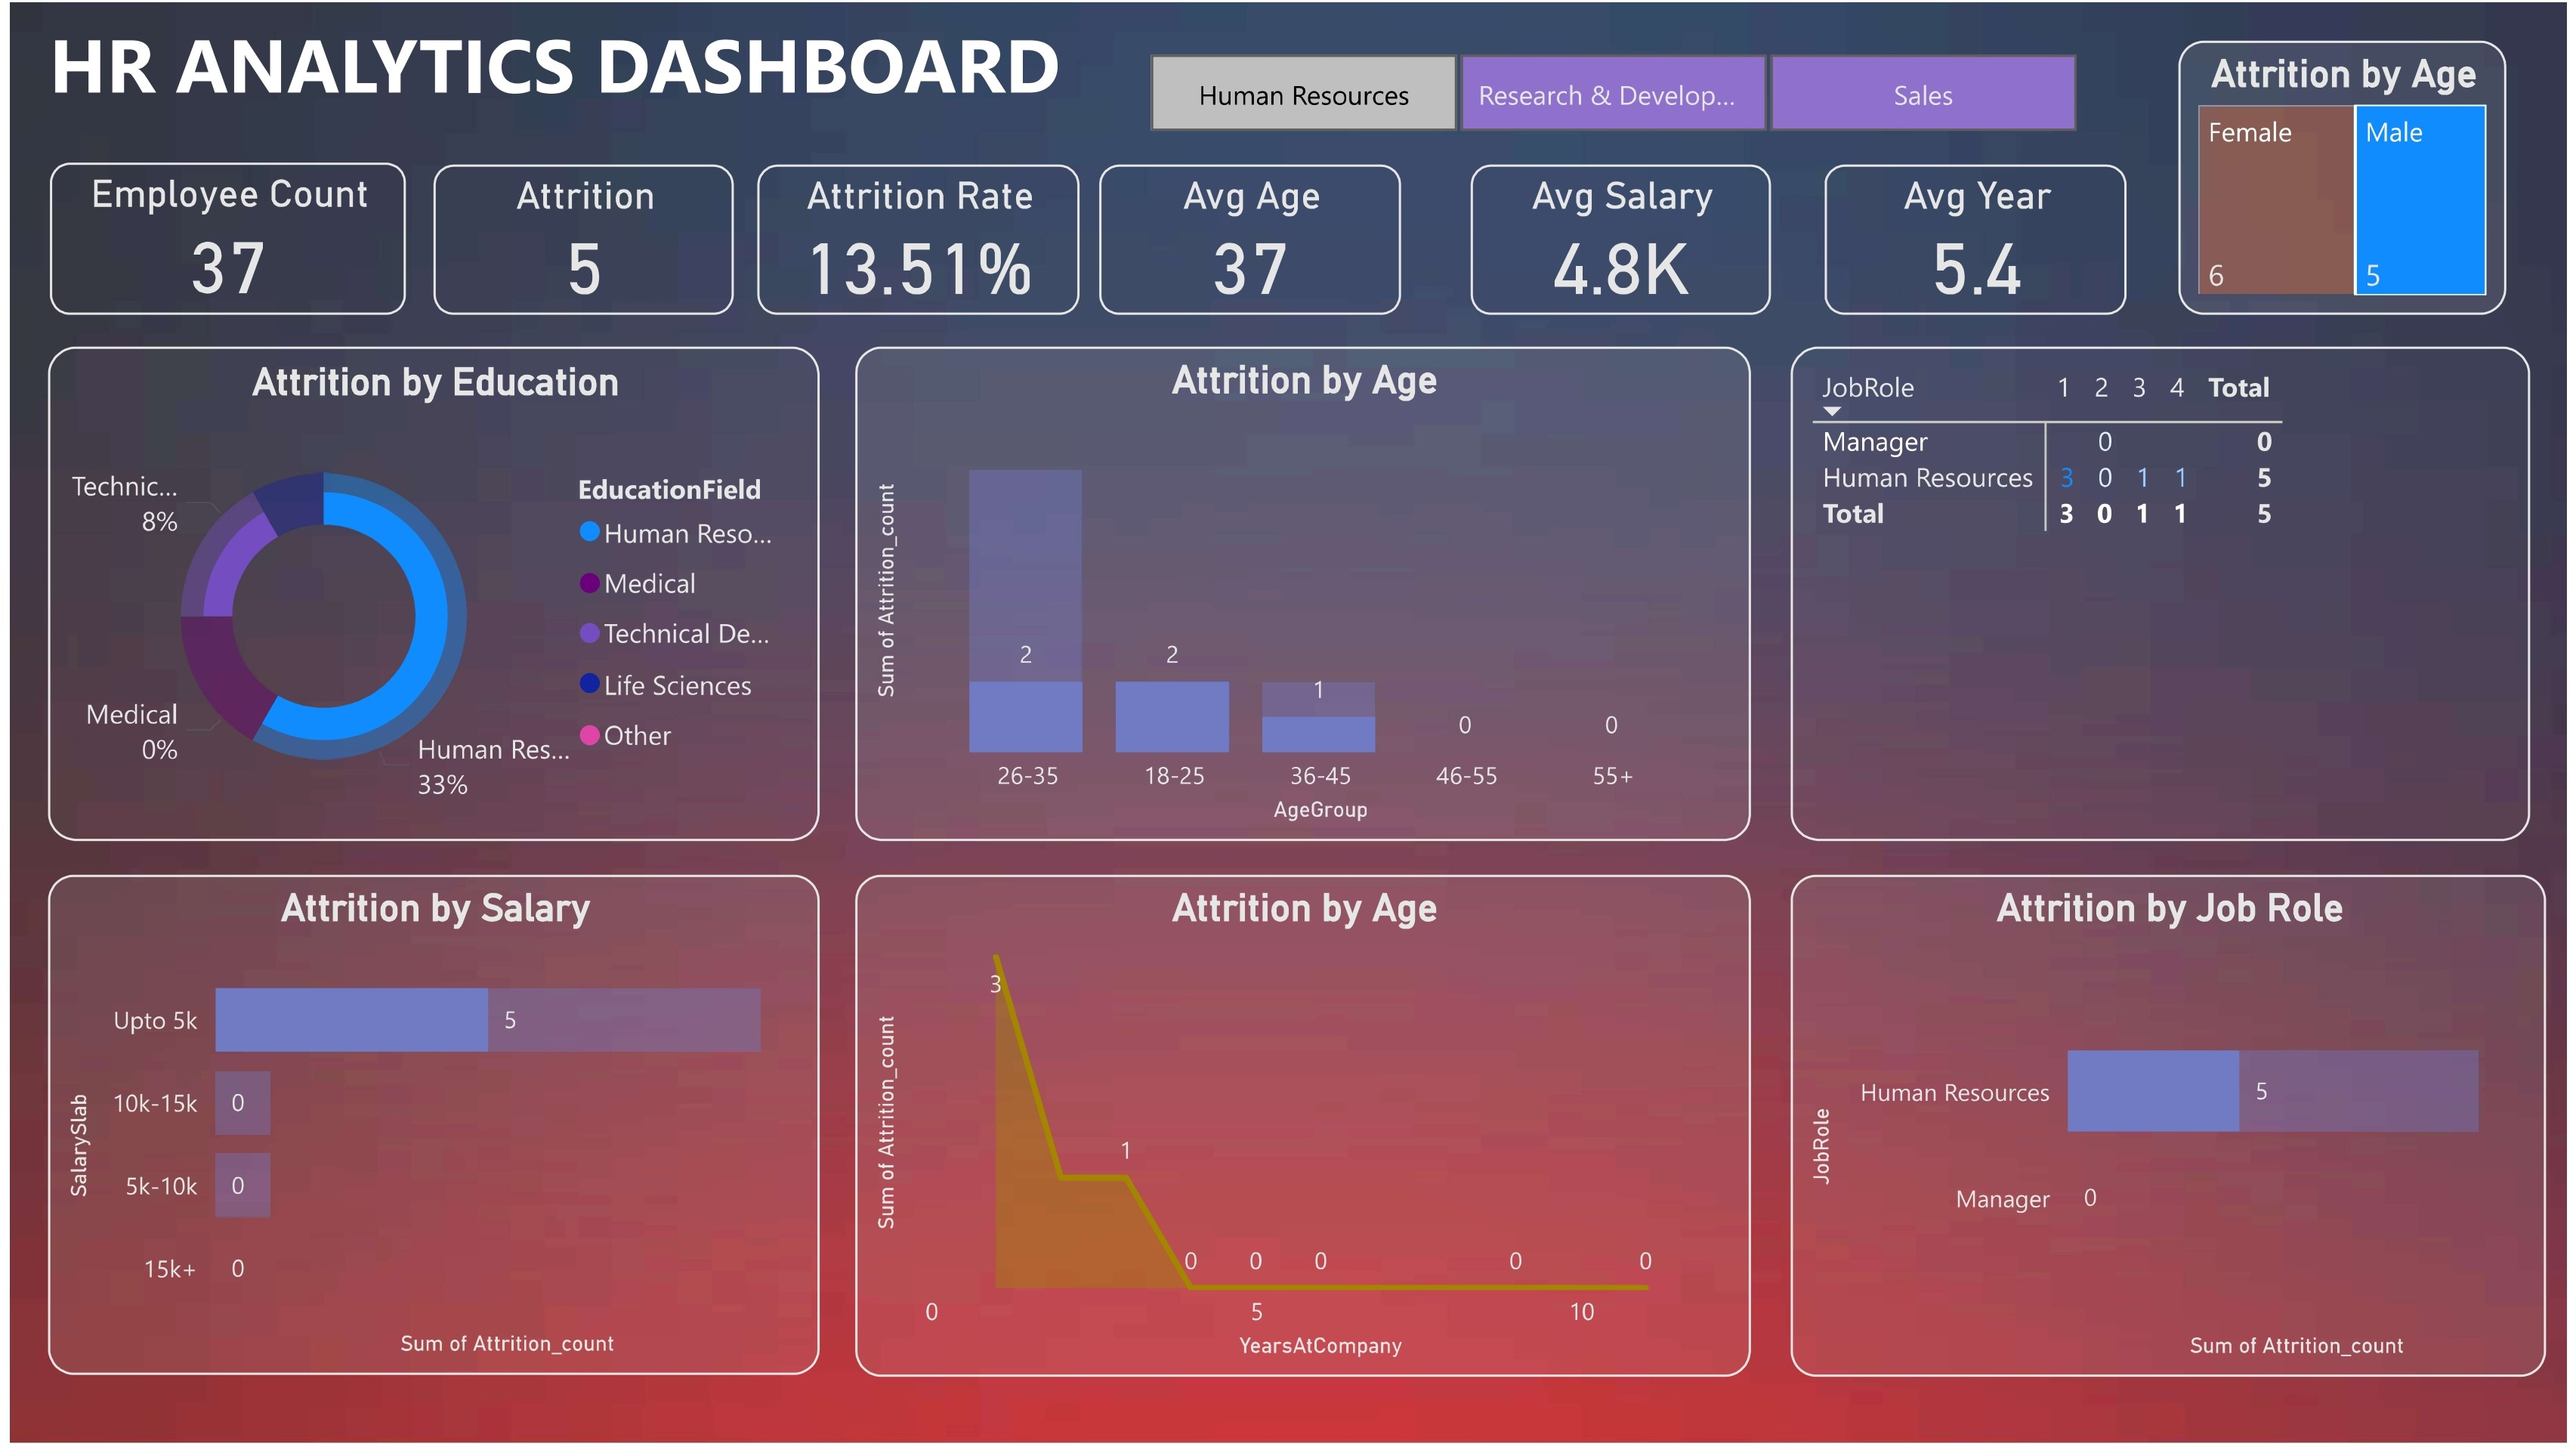

This screenshot's page, from the dashboard's own definition file:
{"tool":"powerbi","page":{"name":"Page 1","canvas":[1280,720],"ordinal":0},"visuals":[{"type":"card","title":"Avg Age","fields":{"Values":["Avg(HR_Analytics.Age)"]},"box":[544.8,81,150.9,75.5],"z":0},{"type":"card","title":"Attrition Rate","fields":{"Values":["HR_Analytics.AttritionRate"]},"box":[374,81.1,161,75.1],"z":1000},{"type":"card","title":"Attrition","fields":{"Values":["Sum(HR_Analytics.Attrition_count)"]},"box":[211.8,81.1,150.1,75.1],"z":2000},{"type":"card","title":"Avg Salary","fields":{"Values":["Avg(HR_Analytics.MonthlyIncome)"]},"box":[731.4,81,149.6,75.5],"z":3000},{"type":"card","title":"Avg Year","fields":{"Values":["Avg(HR_Analytics.YearsAtCompany)"]},"box":[908.4,81,150.9,75.5],"z":4000},{"type":"donutChart","title":"Attrition by Education","fields":{"Category":["HR_Analytics.EducationField"],"Y":["Sum(HR_Analytics.Attrition_count)"]},"box":[19.2,171.5,385.6,247],"z":5000},{"type":"columnChart","title":"Attrition by Age","fields":{"Category":["HR_Analytics.AgeGroup"],"Y":["Sum(HR_Analytics.Attrition_count)"]},"box":[422.6,171.5,448.7,247],"z":6000},{"type":"pivotTable","fields":{"Rows":["HR_Analytics.JobRole"],"Values":["Sum(HR_Analytics.Attrition_count)"],"Columns":["HR_Analytics.JobSatisfaction"]},"box":[890.6,171.5,370.5,247],"z":7000},{"type":"barChart","title":"Attrition by Salary","fields":{"Category":["HR_Analytics.SalarySlab"],"Y":["Sum(HR_Analytics.Attrition_count)"]},"box":[19.2,436.4,385.6,249.7],"z":8000},{"type":"barChart","title":"Attrition by Job Role","fields":{"Category":["HR_Analytics.JobRole"],"Y":["Sum(HR_Analytics.Attrition_count)"]},"box":[890.6,436.4,378.7,251.1],"z":9000},{"type":"areaChart","title":"Attrition by Age","fields":{"Category":["HR_Analytics.YearsAtCompany"],"Y":["Sum(HR_Analytics.Attrition_count)"]},"box":[422.6,436.4,448.7,251.1],"z":10000},{"type":"treemap","title":"Attrition by Age","fields":{"Group":["HR_Analytics.Gender"],"Values":["Sum(HR_Analytics.Attrition_count)"]},"box":[1085.4,19.2,163.3,137.2],"z":11000},{"type":"slicer","fields":{"Values":["HR_Analytics.Department"]},"box":[544.8,19.2,513.2,52.1],"z":12000},{"type":"textbox","box":[9.6,0,525.6,59],"z":13000},{"type":"card","title":"Employee Count","fields":{"Values":["CountNonNull(HR_Analytics.EmpID)"]},"box":[20,80,178,76],"z":14000}]}

Visuals, with their boxes in screenshot pixels (x1, y1, x2, y2), scaled from the page's 1280x720 canvas onto the 2576x1456 screenshot:
"Avg Age" card: crop(1096, 164, 1400, 317)
"Attrition Rate" card: crop(752, 164, 1076, 316)
"Attrition" card: crop(426, 164, 728, 316)
"Avg Salary" card: crop(1472, 164, 1773, 317)
"Avg Year" card: crop(1828, 164, 2132, 317)
"Attrition by Education" donutChart: crop(39, 347, 814, 846)
"Attrition by Age" columnChart: crop(851, 347, 1753, 846)
pivotTable - HR_Analytics.JobRole x Sum(HR_Analytics.Attrition_count): crop(1793, 347, 2538, 846)
"Attrition by Salary" barChart: crop(39, 883, 814, 1387)
"Attrition by Job Role" barChart: crop(1793, 883, 2554, 1390)
"Attrition by Age" areaChart: crop(851, 883, 1753, 1390)
"Attrition by Age" treemap: crop(2185, 39, 2513, 317)
slicer - HR_Analytics.Department: crop(1096, 39, 2130, 144)
textbox: crop(20, 0, 1077, 119)
"Employee Count" card: crop(40, 162, 398, 316)
